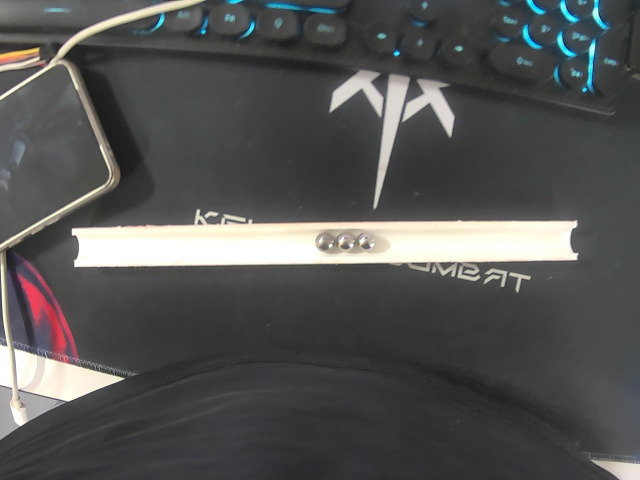steelball: (313, 230, 336, 253), (358, 231, 378, 253), (337, 231, 357, 252)
